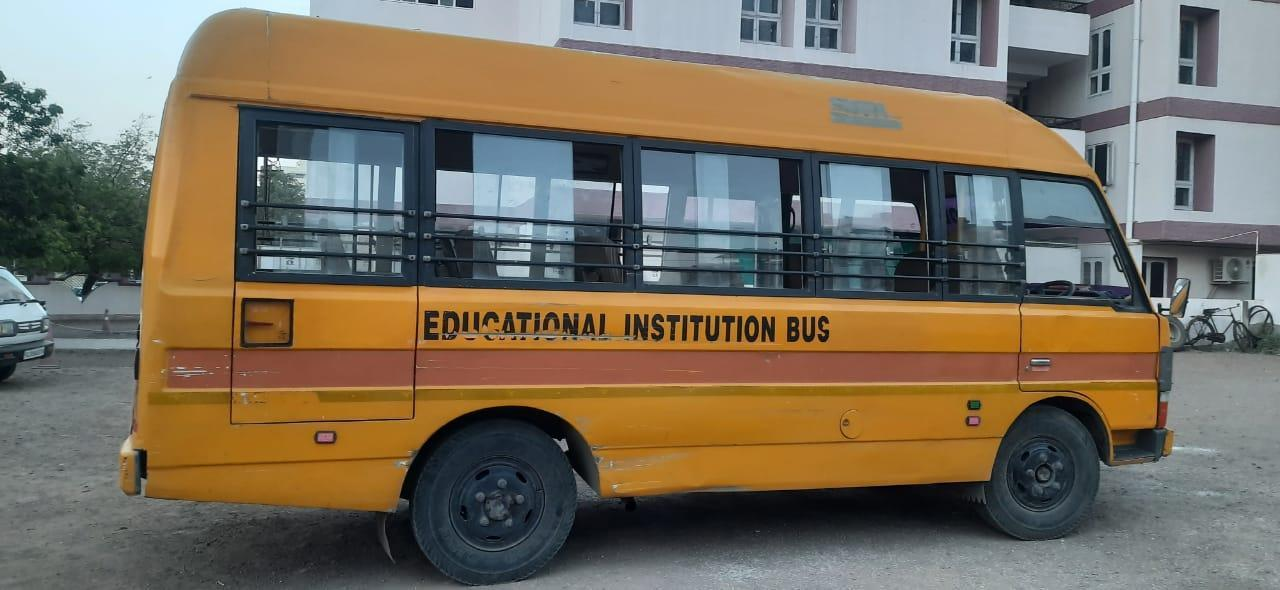Bus: (132, 7, 1185, 589)
